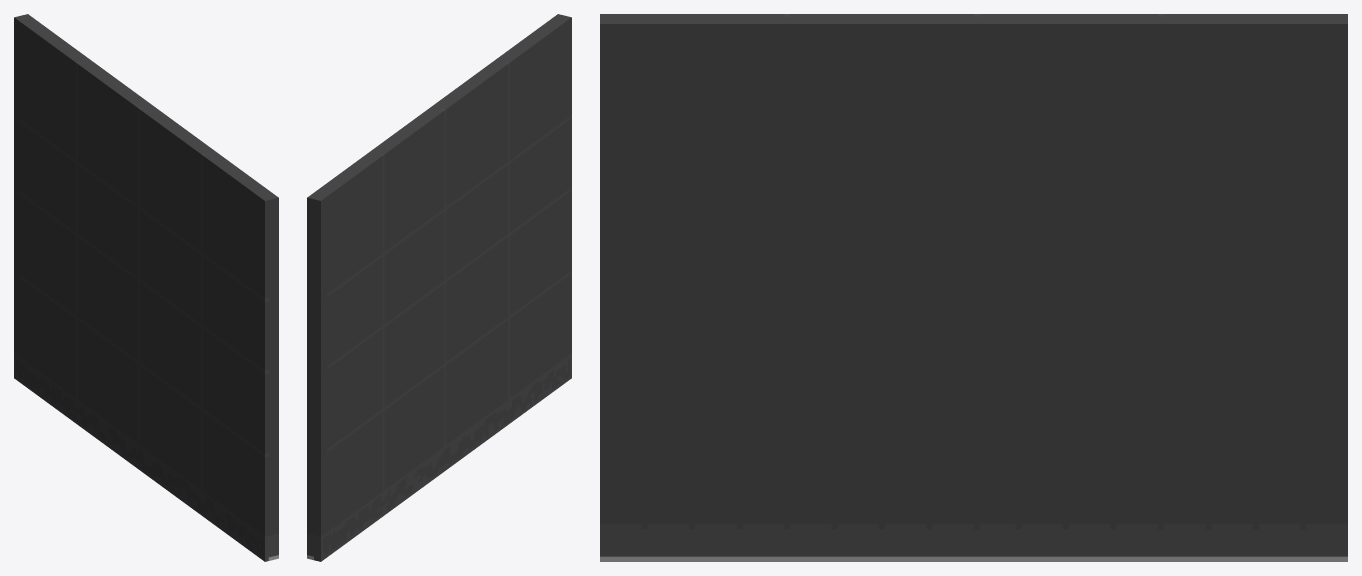
Rendered from wall03.obj.
The picture shows the model from 3 angles, left to right: view 1: azimuth 30°, elevation 25°; view 2: azimuth 150°, elevation 25°; view 3: azimuth 270°, elevation 25°; orthographic projection. The views are drawn at different scales.
Bounding box in the file's own units: 0.4 × 10 × 12.6.
1 material, 1 textured.
